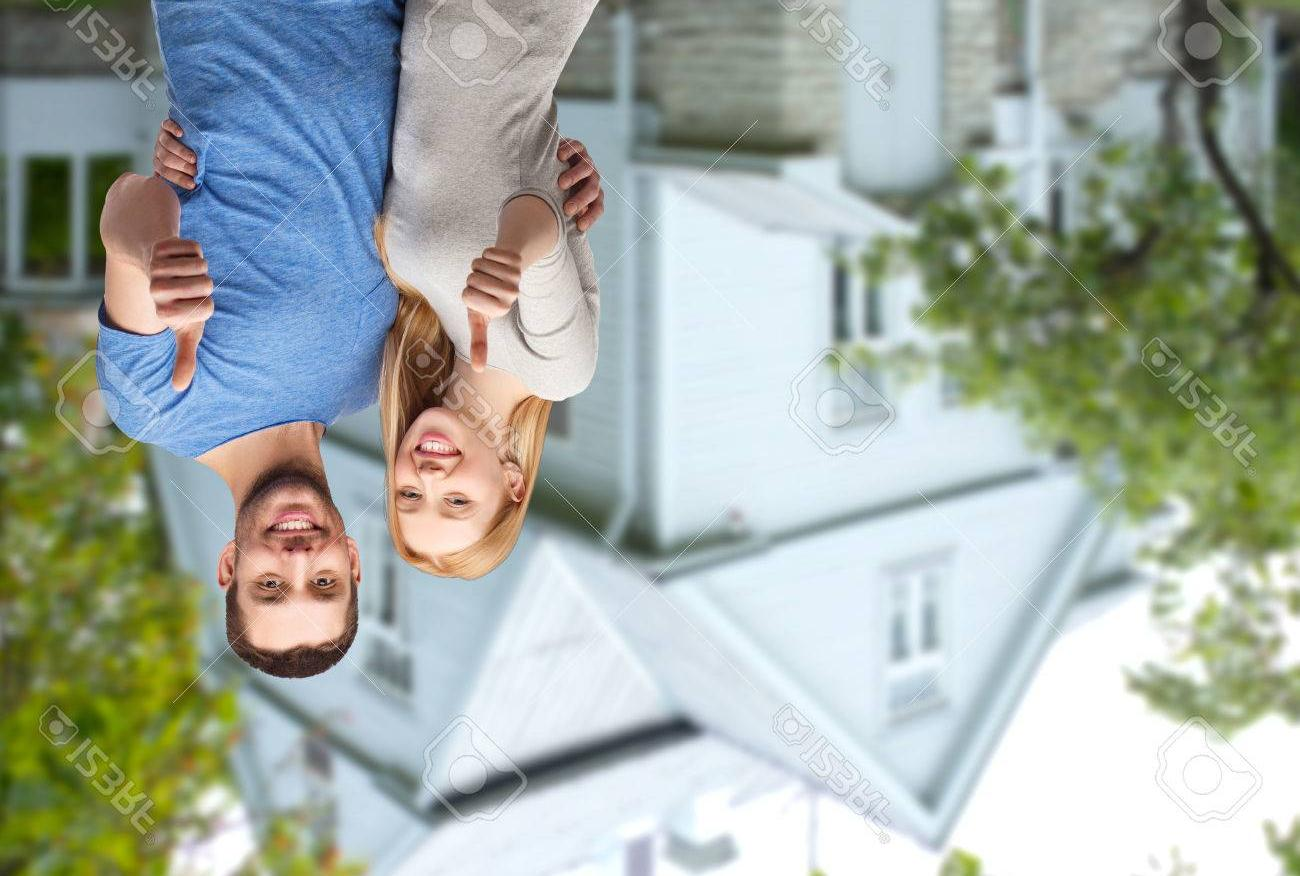thumbsdown: (150, 238, 215, 392), (462, 247, 523, 372)
